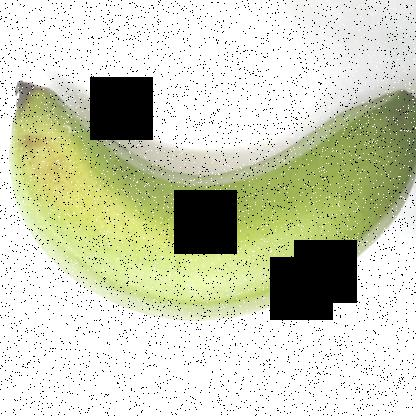freshunripe: (0, 57, 415, 336)
